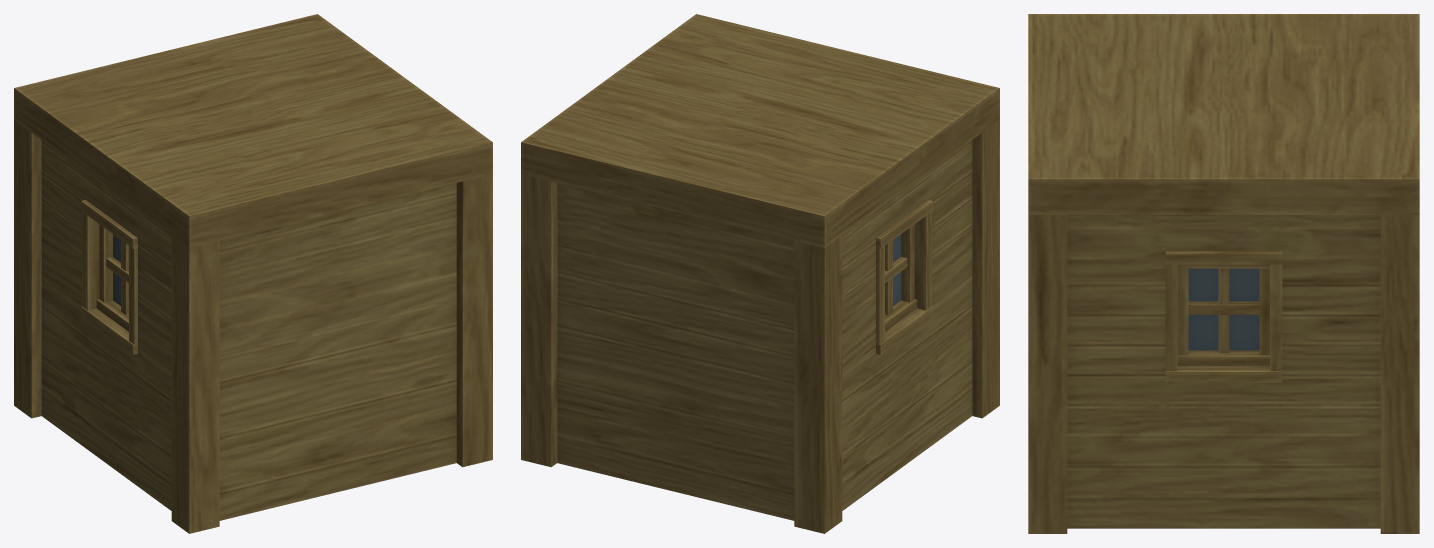
File: sb_obj_outdoor028_house03_wall01.fbx
3 views of the same model, side by side, from view 1: azimuth 30°, elevation 25°; view 2: azimuth 150°, elevation 25°; view 3: azimuth 270°, elevation 25° (orthographic). The views are drawn at different scales.
Parts seen in each view (by area): view 1: sb_obj_outdoor028_house03_wall01; view 2: sb_obj_outdoor028_house03_wall01; view 3: sb_obj_outdoor028_house03_wall01.
Part boxes in pixels (box(x1,y1,x2,y2)): sb_obj_outdoor028_house03_wall01: box(14, 14, 492, 533); sb_obj_outdoor028_house03_wall01: box(521, 14, 999, 533); sb_obj_outdoor028_house03_wall01: box(1028, 14, 1419, 533).
Size of the model in its own units: 3 by 3 by 3.
